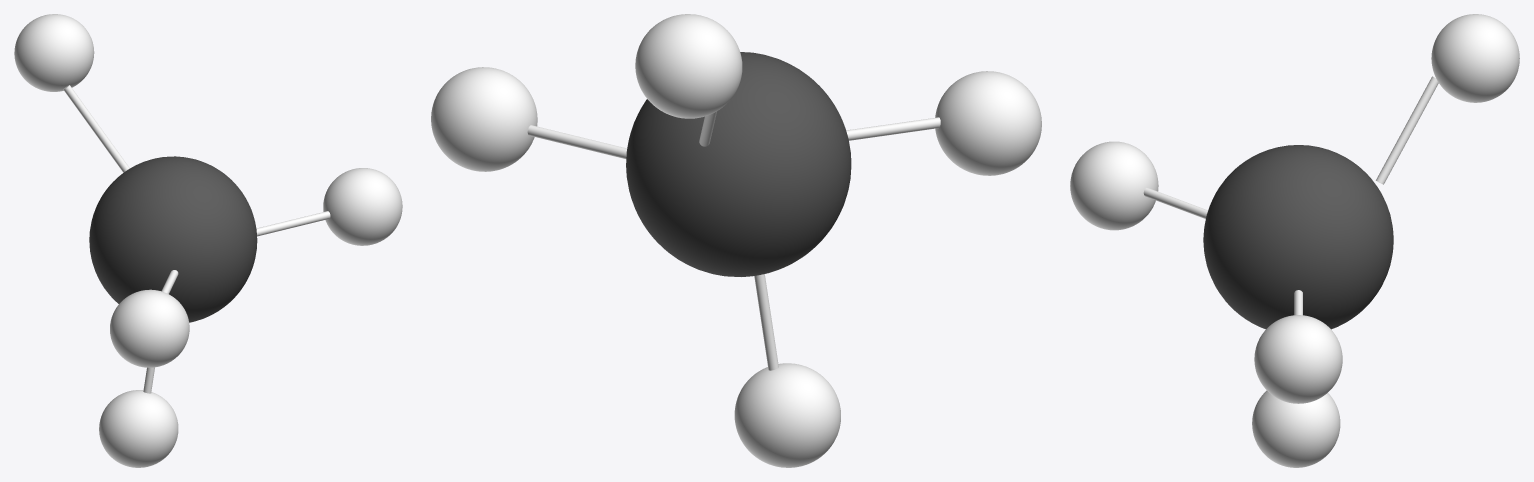
Rendered from metano.fbx.
3 renders of one model, left to right at view 1: azimuth 30°, elevation 25°; view 2: azimuth 150°, elevation 25°; view 3: azimuth 270°, elevation 25°, orthographic. The views are drawn at different scales.
Visible parts, largest first — view 1: Node #0, Node #9, Node #4, Node #7, Node #1, Node #6, Node #2; view 2: Node #0, Node #4, Node #9, Node #7, Node #1, Node #2, Node #3, Node #8; view 3: Node #0, Node #4, Node #1, Node #9, Node #7, Node #6, Node #8.
Part boxes in pixels (x1=…): Node #0: x1=89, y1=156, x2=257, y2=322; Node #9: x1=110, y1=289, x2=189, y2=367; Node #4: x1=14, y1=14, x2=94, y2=91; Node #7: x1=99, y1=390, x2=178, y2=467; Node #1: x1=323, y1=168, x2=402, y2=245; Node #6: x1=63, y1=85, x2=129, y2=172; Node #2: x1=256, y1=211, x2=330, y2=236; Node #0: x1=626, y1=52, x2=851, y2=276; Node #4: x1=635, y1=14, x2=742, y2=118; Node #9: x1=935, y1=71, x2=1041, y2=175; Node #7: x1=734, y1=363, x2=840, y2=467; Node #1: x1=431, y1=67, x2=537, y2=171; Node #2: x1=527, y1=125, x2=627, y2=158; Node #3: x1=754, y1=274, x2=778, y2=370; Node #8: x1=846, y1=117, x2=940, y2=140; Node #0: x1=1203, y1=145, x2=1393, y2=329; Node #4: x1=1431, y1=14, x2=1519, y2=102; Node #1: x1=1254, y1=315, x2=1342, y2=403; Node #9: x1=1070, y1=141, x2=1158, y2=230; Node #7: x1=1252, y1=390, x2=1340, y2=467; Node #6: x1=1376, y1=76, x2=1438, y2=184; Node #8: x1=1143, y1=187, x2=1207, y2=218.
Size of the model in its own units: 0.2031 by 0.2081 by 0.1917.
3 materials, 3 textured.
